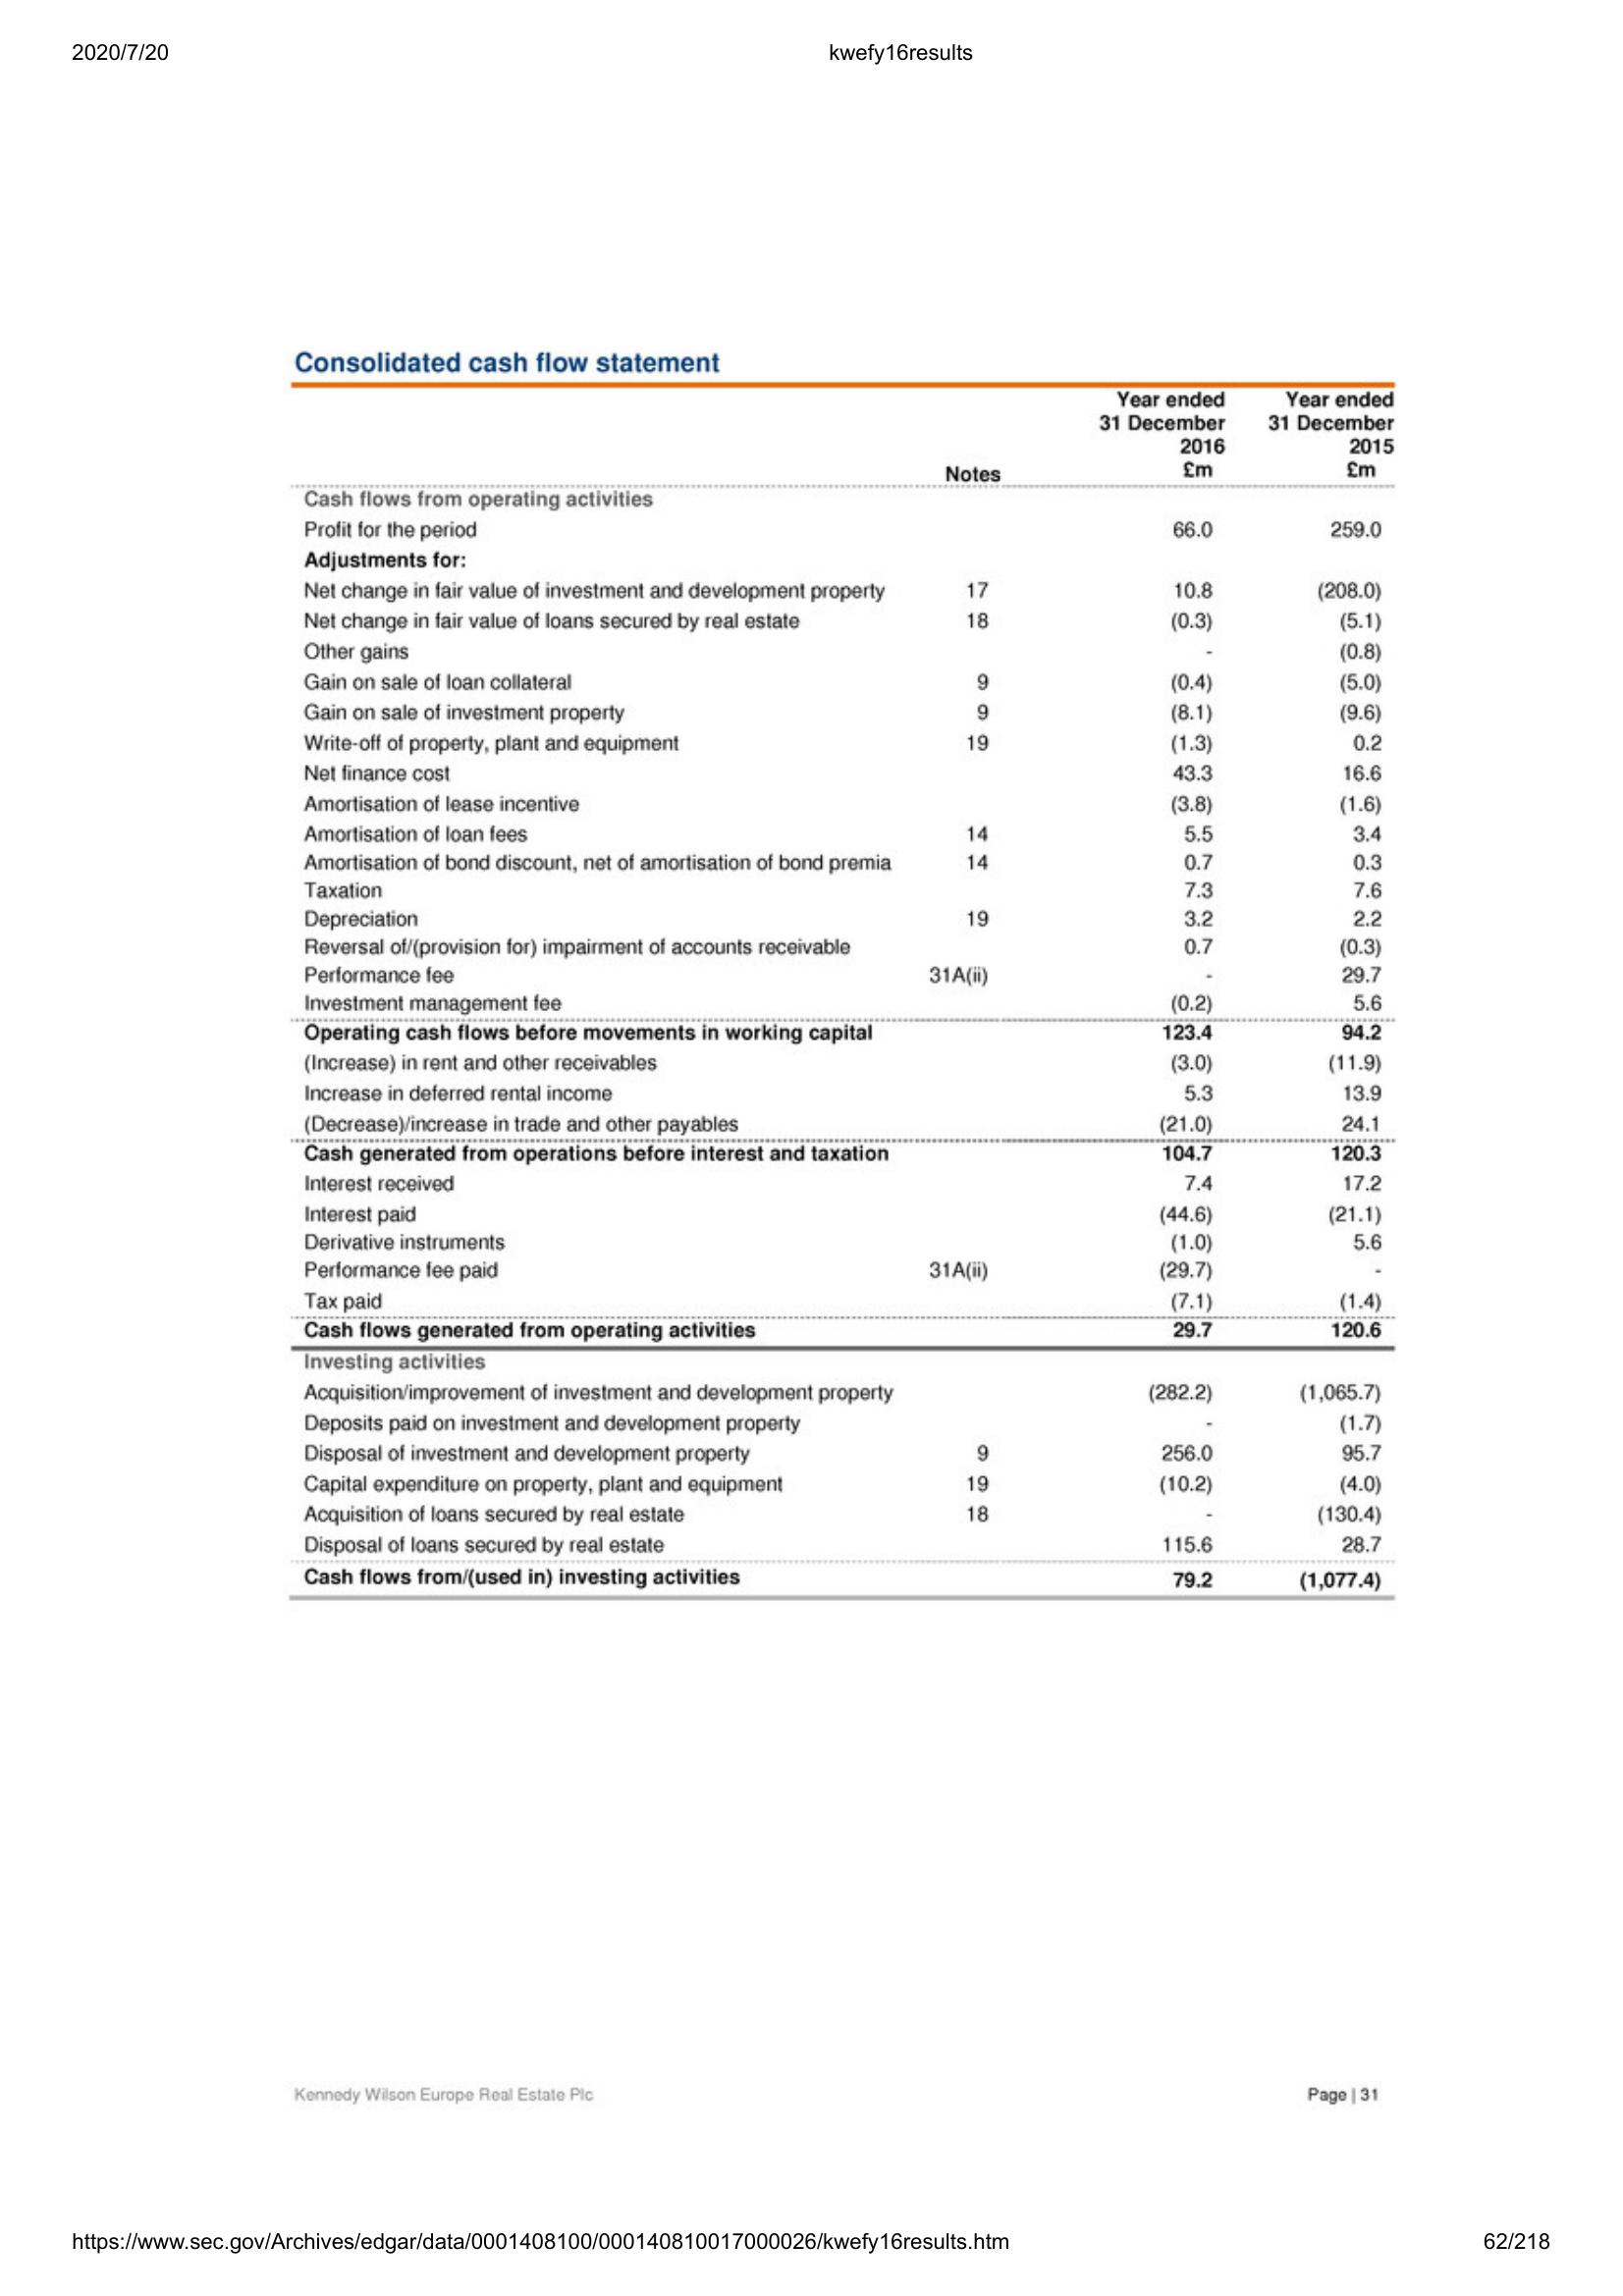table: (288, 377, 1393, 1610)
